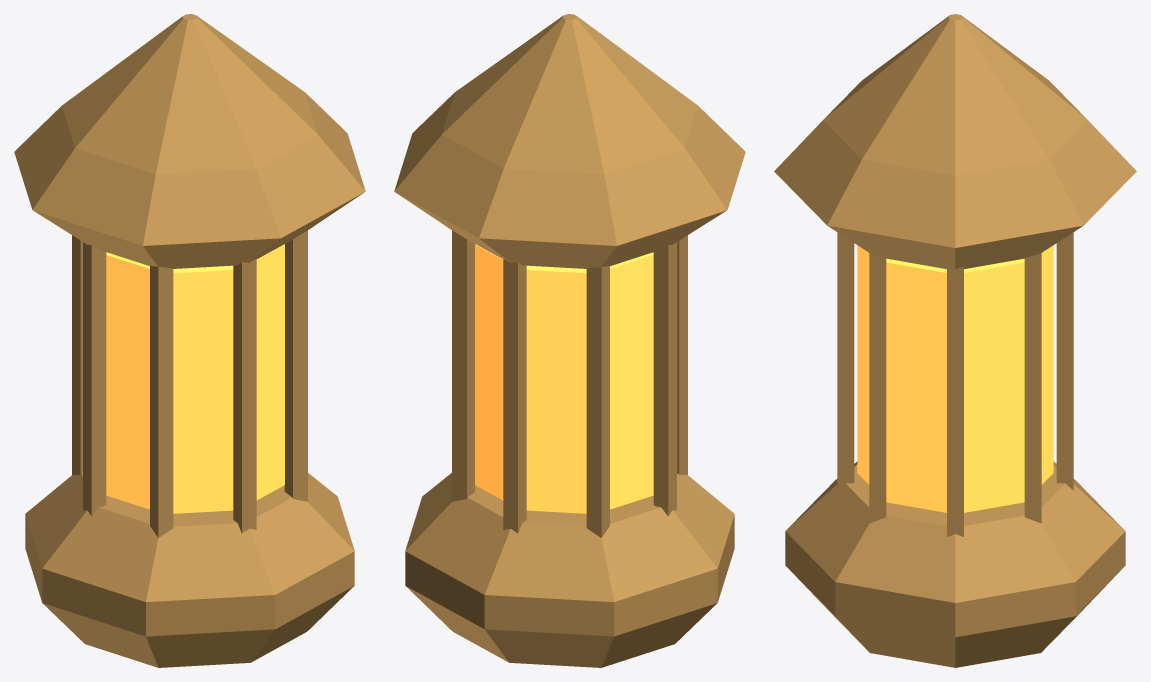
Rendered from brass_lantern.glb.
3 views of the same model, side by side, from view 1: azimuth 30°, elevation 25°; view 2: azimuth 150°, elevation 25°; view 3: azimuth 270°, elevation 25° (orthographic).
Parts seen in each view (by area): view 1: brass_lantern Brass finials, brass_lantern Amber glass; view 2: brass_lantern Brass finials, brass_lantern Amber glass; view 3: brass_lantern Brass finials, brass_lantern Amber glass.
Boxes of the visible parts, box(x1,y1,x2,y2) form: brass_lantern Brass finials: box(14, 14, 365, 667); brass_lantern Amber glass: box(106, 244, 284, 513); brass_lantern Brass finials: box(394, 14, 745, 667); brass_lantern Amber glass: box(475, 244, 653, 513); brass_lantern Brass finials: box(774, 14, 1136, 667); brass_lantern Amber glass: box(857, 245, 1053, 512).
Bounding box in the file's own units: 0.96 × 1.75 × 0.96.
